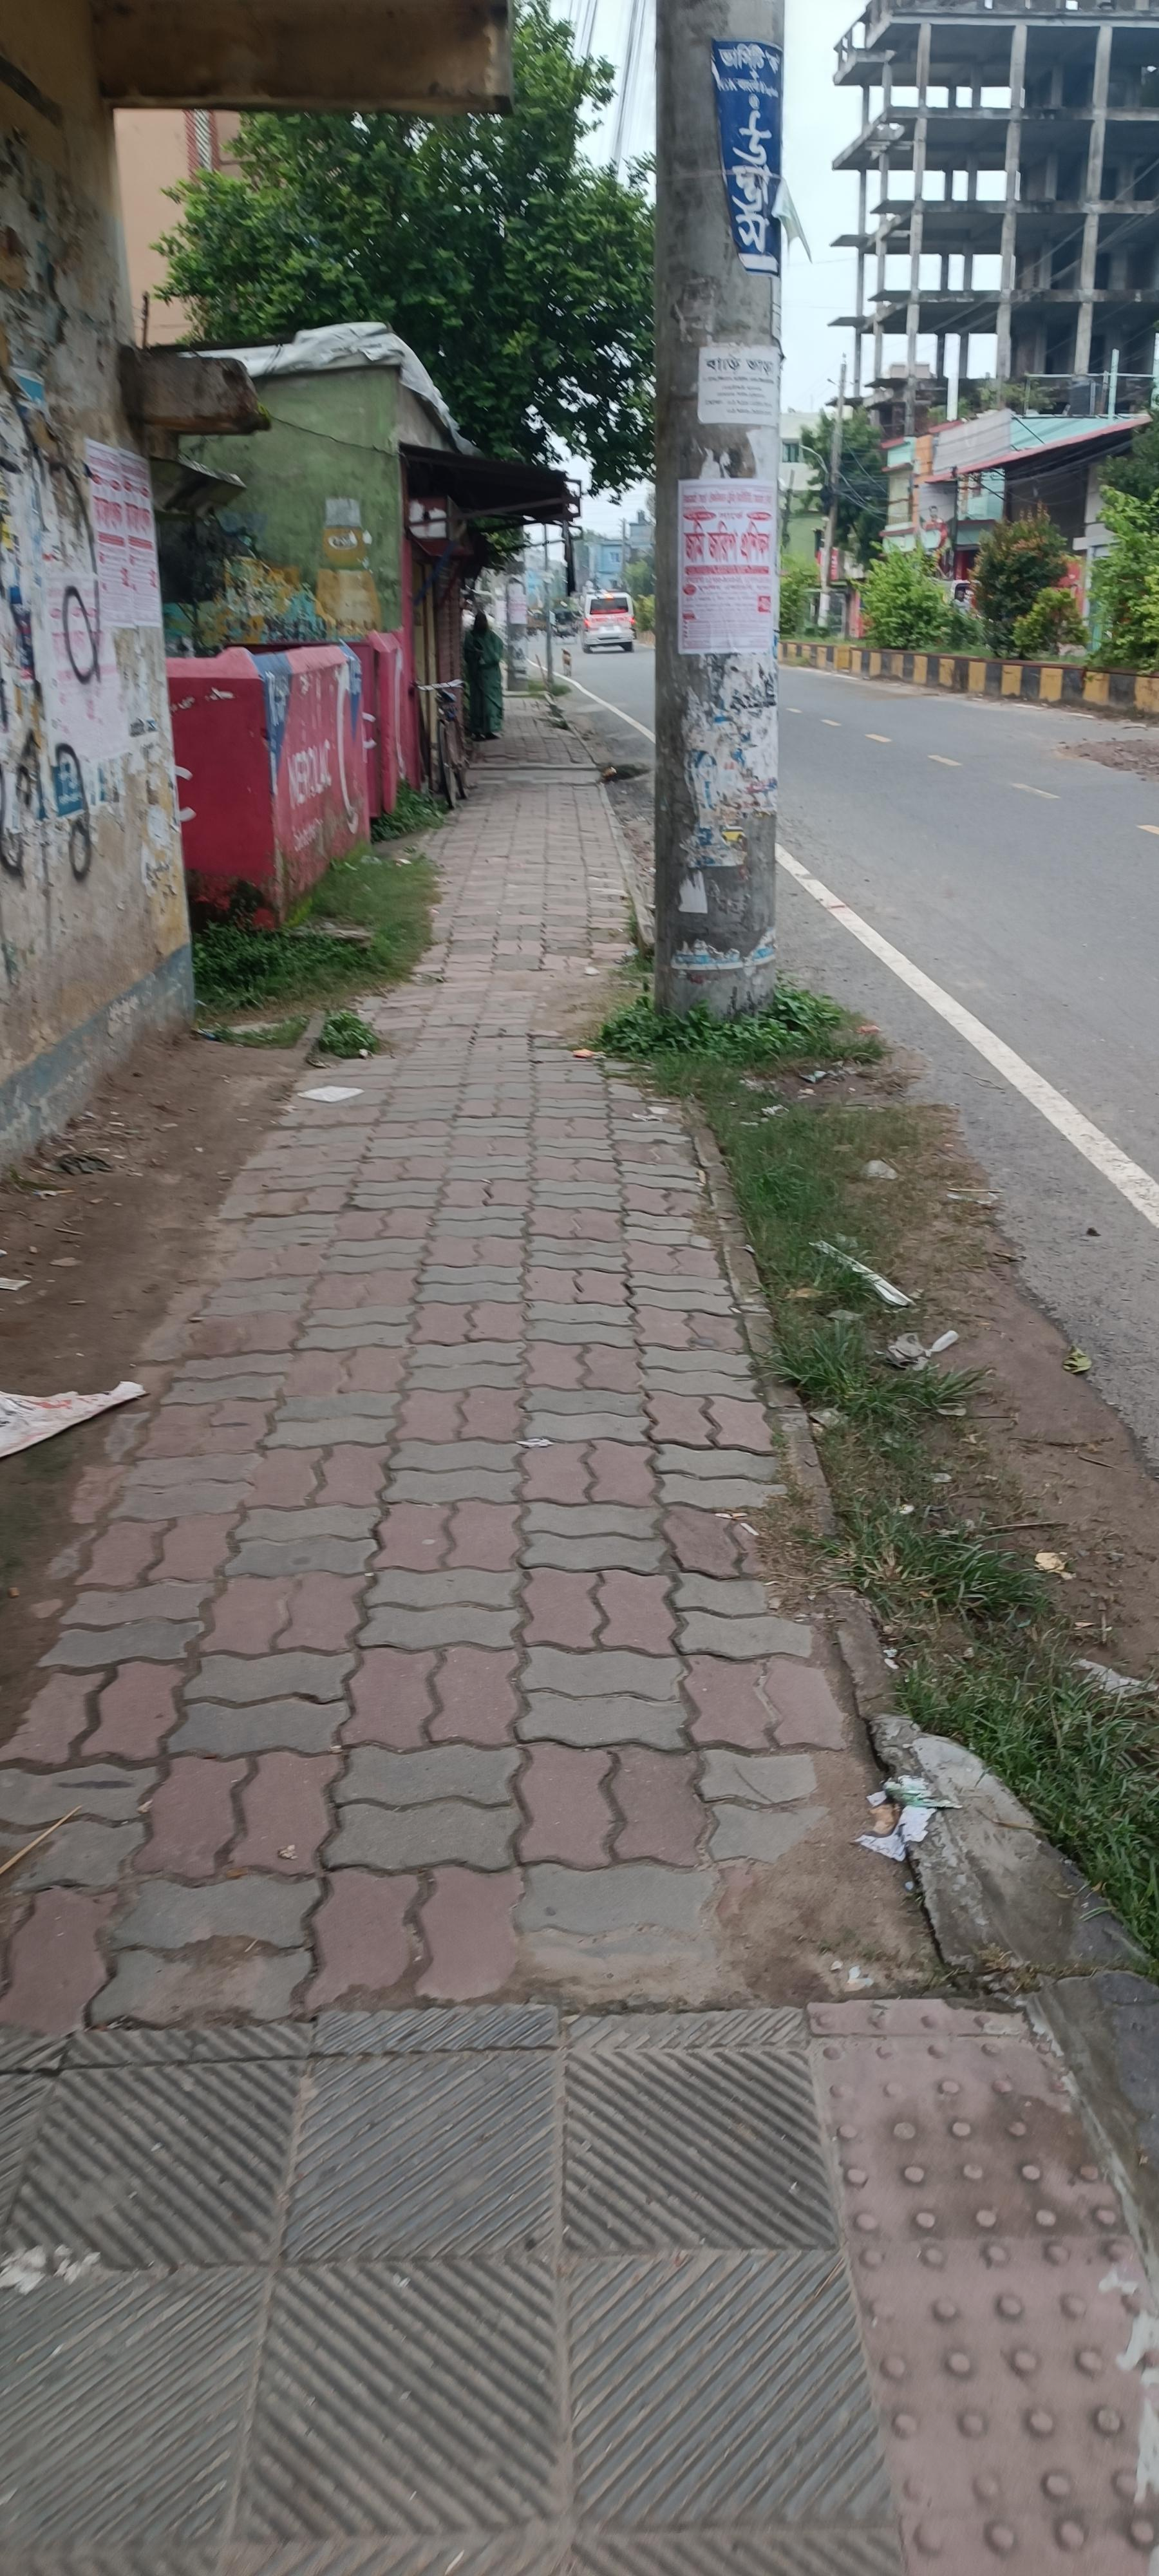Garbage-bin: (463, 611, 507, 739)
Light-pole: (650, 2, 786, 1025)
Pothole: (110, 922, 1108, 2492)
Traffic-cone: (581, 593, 637, 652)
